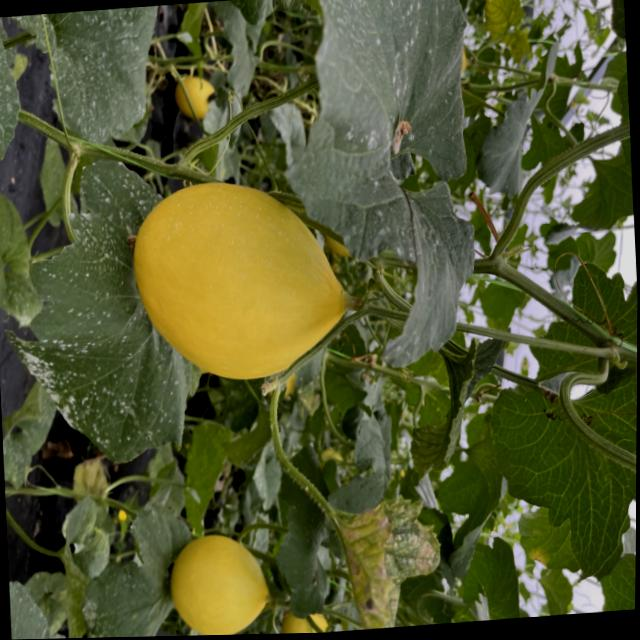CMV: (400, 320, 523, 484)
downy mildew: (333, 488, 446, 632), (480, 0, 533, 62)
healthy: (479, 358, 637, 586), (469, 34, 573, 202), (525, 258, 638, 403), (566, 142, 635, 236), (611, 46, 634, 185), (595, 0, 627, 48)
powdery mildew: (267, 0, 487, 379), (0, 139, 199, 480), (1, 5, 171, 152), (72, 497, 200, 638), (8, 569, 80, 640), (0, 14, 23, 168)
